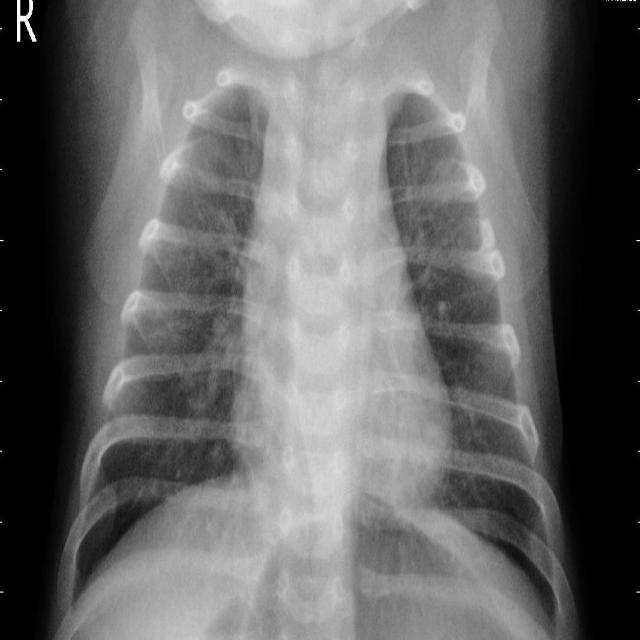low-pneumonia: (162, 96, 263, 310), (404, 136, 485, 302), (455, 324, 522, 488), (183, 294, 239, 454)
